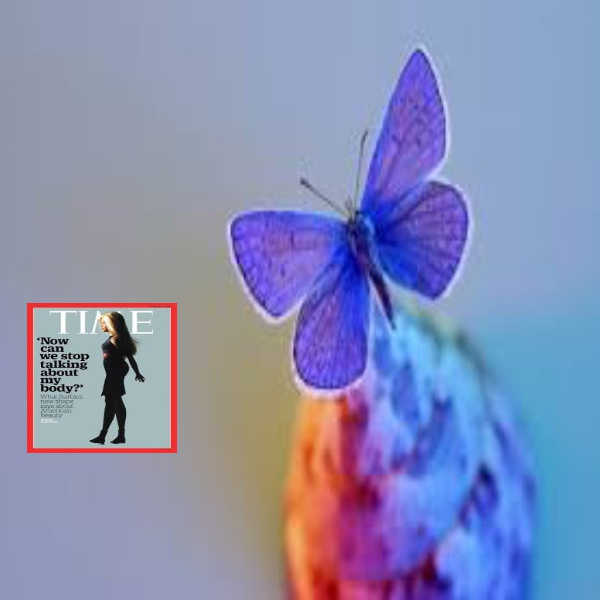time_cover: (28, 293, 179, 446)
